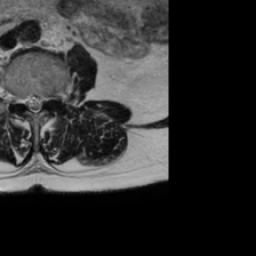CCS_normal: (30, 88, 38, 118)
LFS_severe_stenosis: (46, 88, 55, 108)
LLS_normal: (38, 89, 46, 112)
RFS_stenosis: (15, 88, 23, 109)
RLS_normal: (23, 88, 30, 115)
